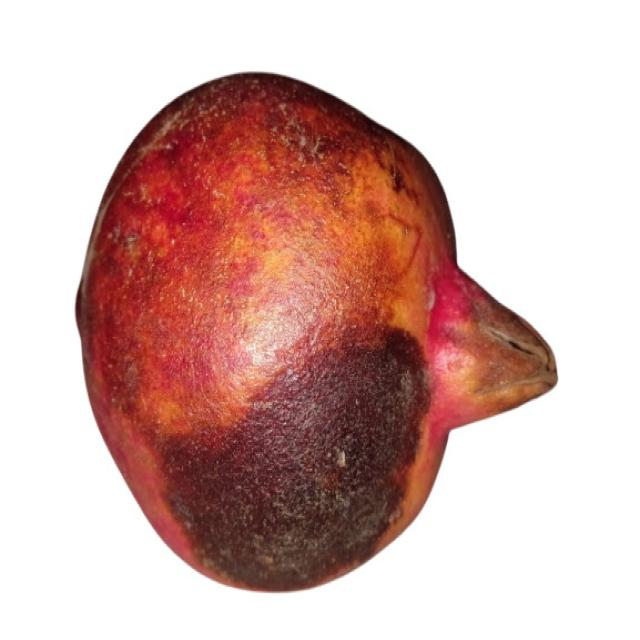Rotten: (76, 65, 562, 593)
